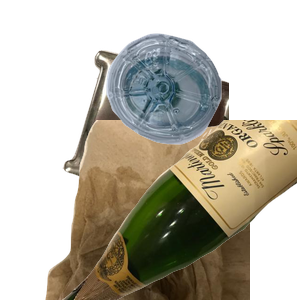glass: (60, 120, 300, 300)
metal: (60, 47, 300, 227)
plastic: (104, 31, 300, 168)
trash: (43, 120, 283, 300)
